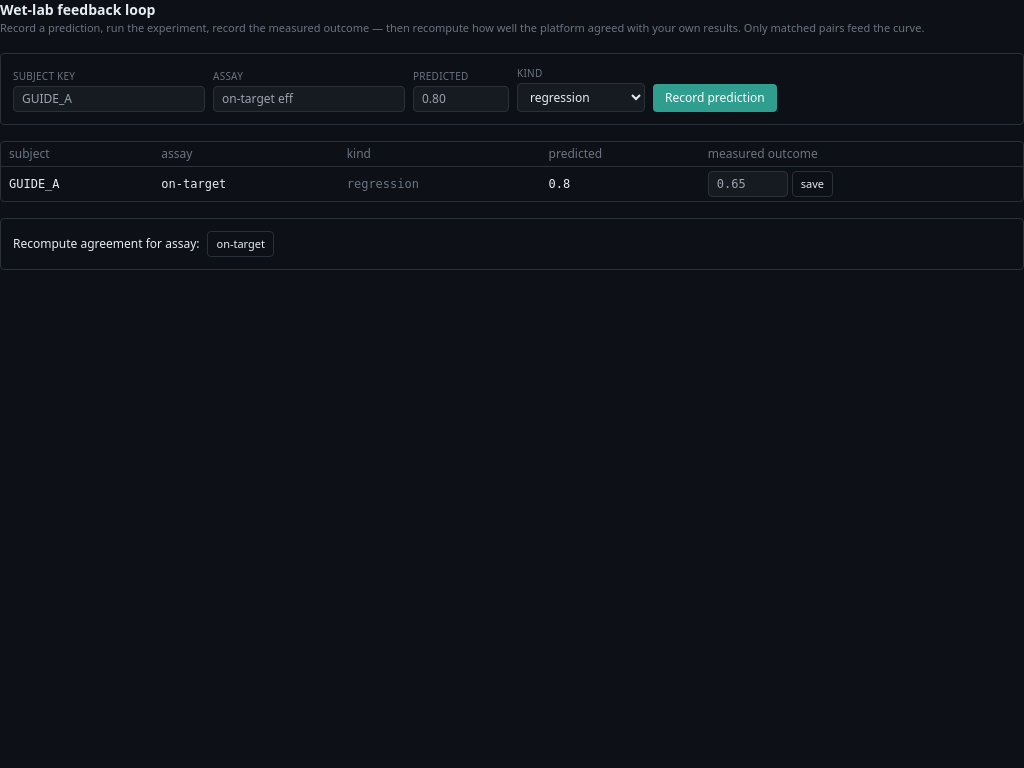
Test: FeedbackPanel › shows agreement counts and the reliability curve when an assay is selected
Expected: the text "GUIDE_A" is shown, [1,166,153,200]
Note: Click the assay button in the agreement section.
Click the button "on-target".
click(241, 244)  # box [208,230,274,257]
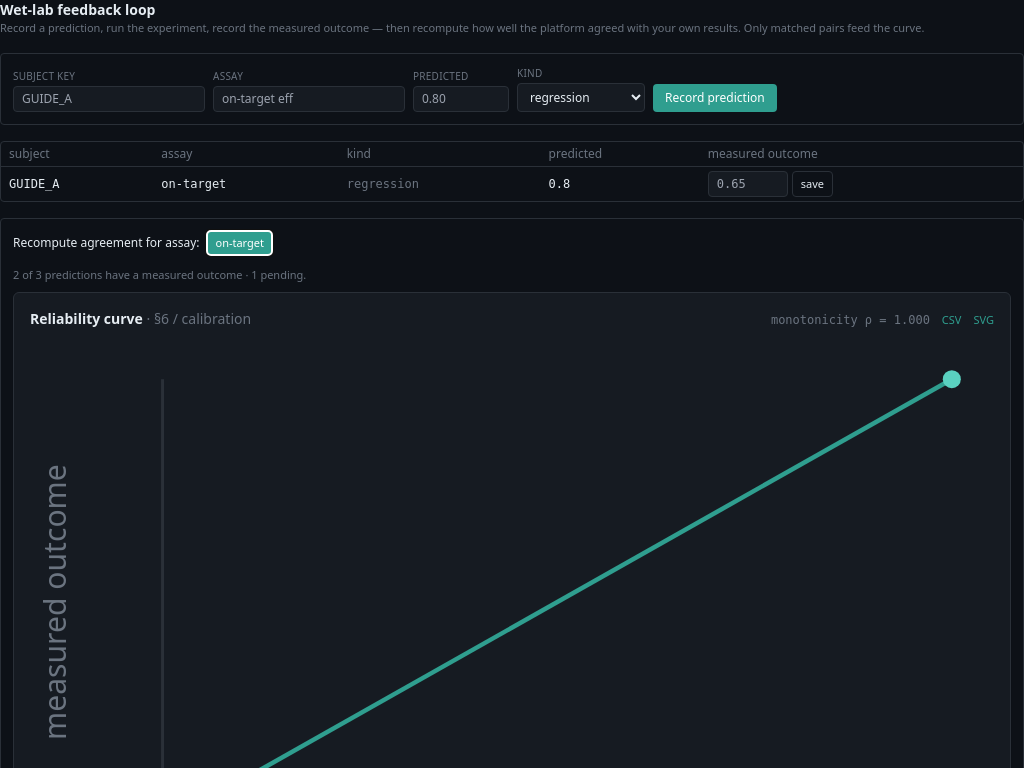
Now the text "2 of 3 predictions have a measured outcome · 1 pending." is shown, box [13,267,306,282]
Now the heading "Reliability curve · §6 / calibration" is shown, box [30,308,251,328]
